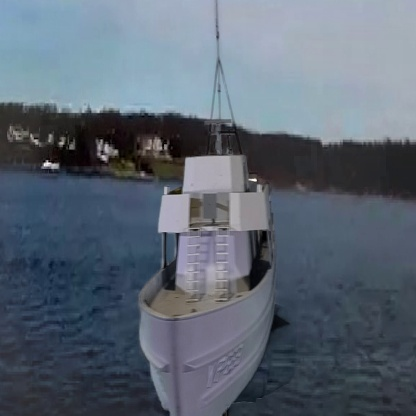YP689: (134, 0, 282, 416)
